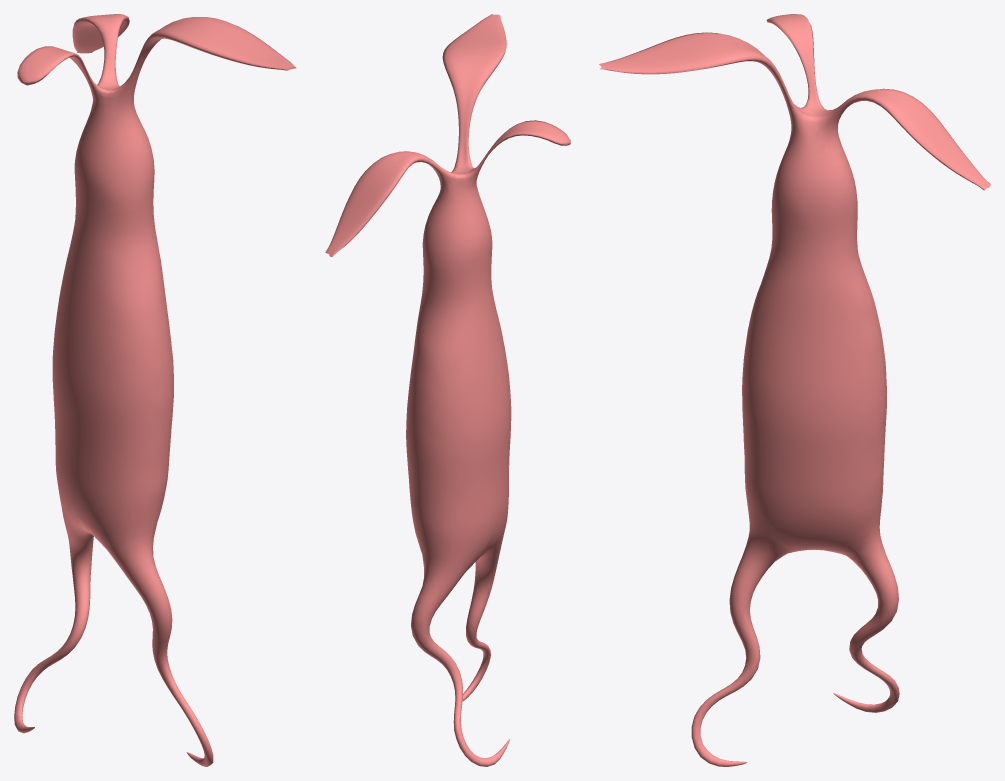
The model's file is Healer New Unwrap.FBX.
The picture shows the model from 3 angles, left to right: view 1: azimuth 30°, elevation 25°; view 2: azimuth 150°, elevation 25°; view 3: azimuth 270°, elevation 25°; orthographic projection. The views are drawn at different scales.
Parts seen in each view (by area): view 1: Low; view 2: Low; view 3: Low.
Part boxes in pixels (<box>): Low: <box>14,14,296,766</box>; Low: <box>325,14,570,766</box>; Low: <box>599,14,990,766</box>.
Bounding box in the file's own units: 151 × 571 × 281.
